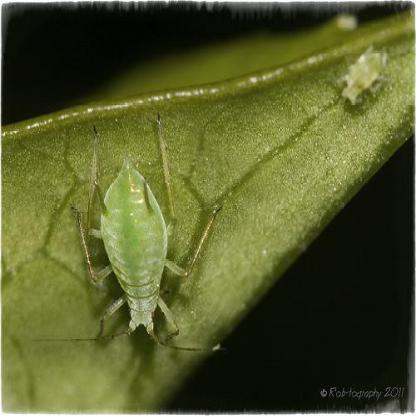aphid: (57, 115, 225, 356), (332, 36, 388, 105)
